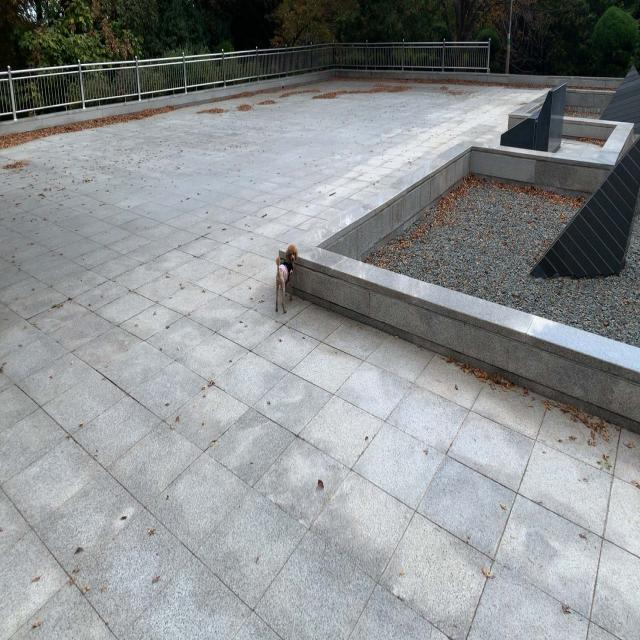Dog: (275, 245, 298, 313)
